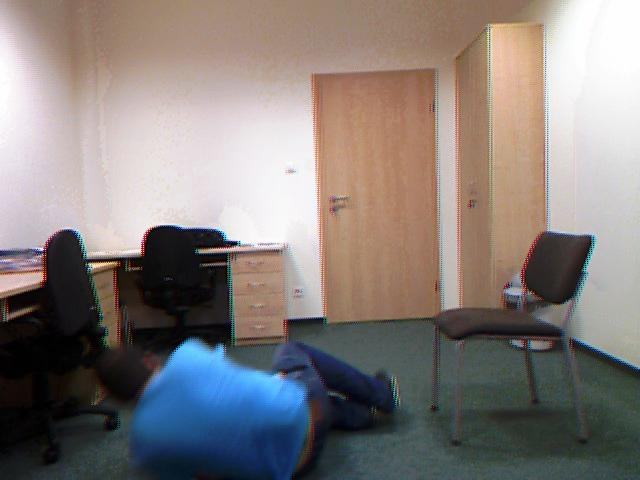fall: (94, 328, 416, 480)
